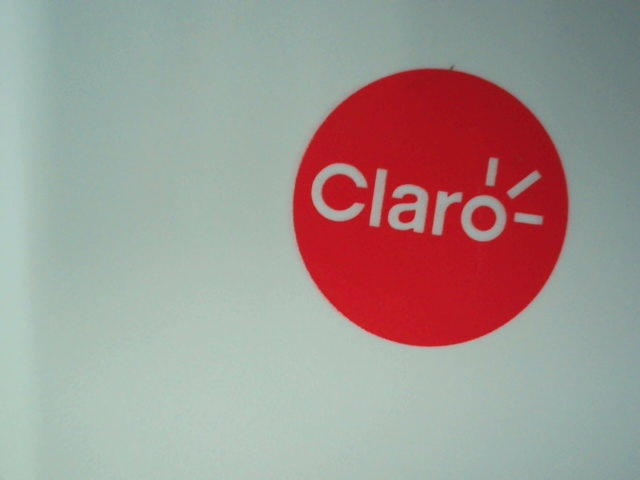BC_ClaorRed: (277, 64, 582, 351)
